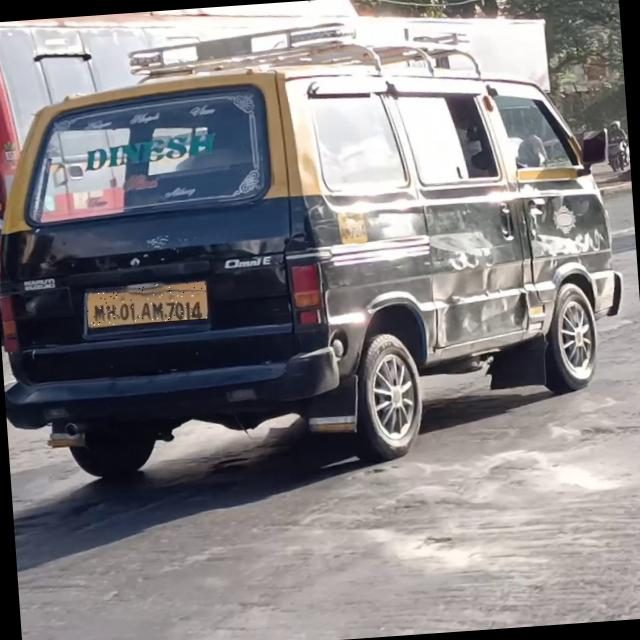Plate: (87, 281, 209, 327)
